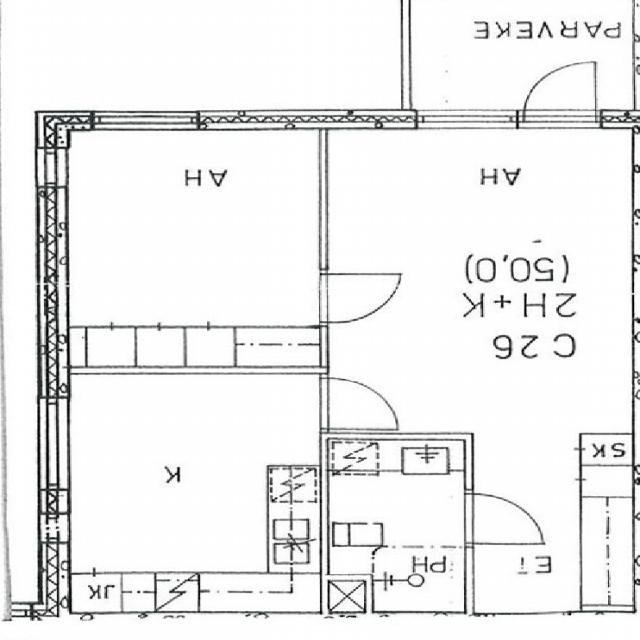door: (524, 56, 596, 129), (321, 379, 395, 430), (465, 494, 539, 544), (321, 274, 392, 323)
